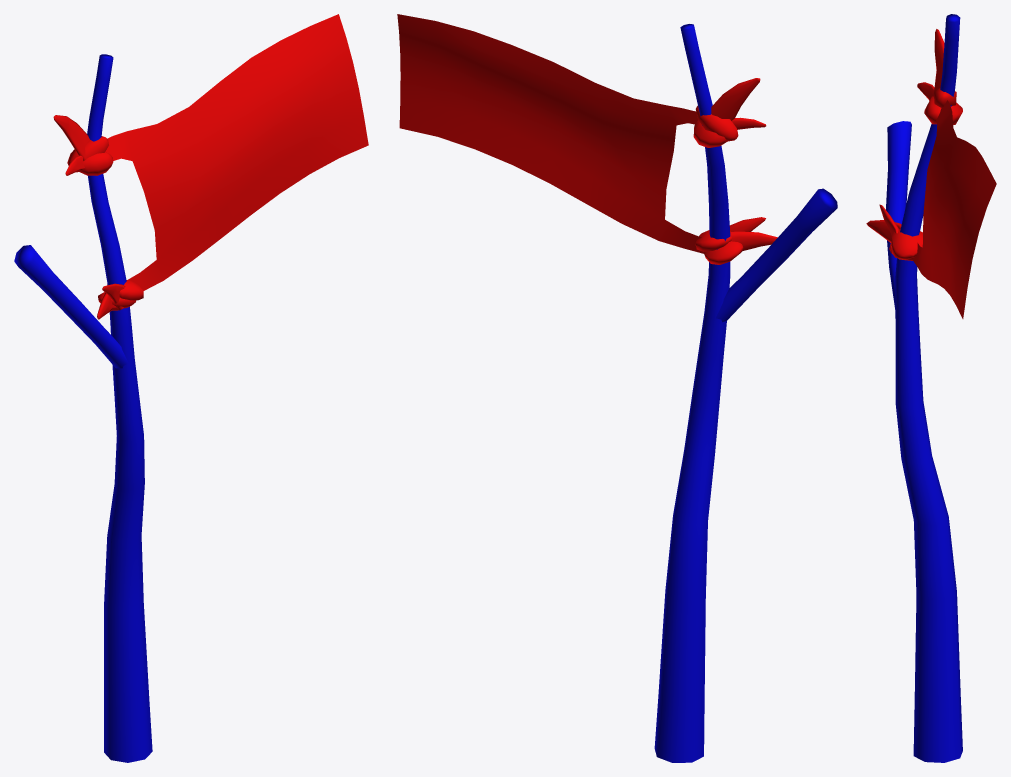
File: treeFlag.fbx
The picture shows the model from 3 angles, left to right: view 1: azimuth 30°, elevation 25°; view 2: azimuth 150°, elevation 25°; view 3: azimuth 270°, elevation 25°; orthographic projection. The views are drawn at different scales.
Visible parts, largest first — view 1: treeFlag_flag_GEO, treeFlag_tree_GEO; view 2: treeFlag_flag_GEO, treeFlag_tree_GEO; view 3: treeFlag_tree_GEO, treeFlag_flag_GEO.
Boxes of the visible parts, x1=… form: treeFlag_flag_GEO: x1=53, y1=14, x2=368, y2=319; treeFlag_tree_GEO: x1=14, y1=54, x2=152, y2=762; treeFlag_flag_GEO: x1=397, y1=14, x2=777, y2=264; treeFlag_tree_GEO: x1=654, y1=24, x2=837, y2=762; treeFlag_tree_GEO: x1=886, y1=14, x2=962, y2=762; treeFlag_flag_GEO: x1=866, y1=29, x2=996, y2=318.
Size of the model in its own units: 409 by 711 by 115.
